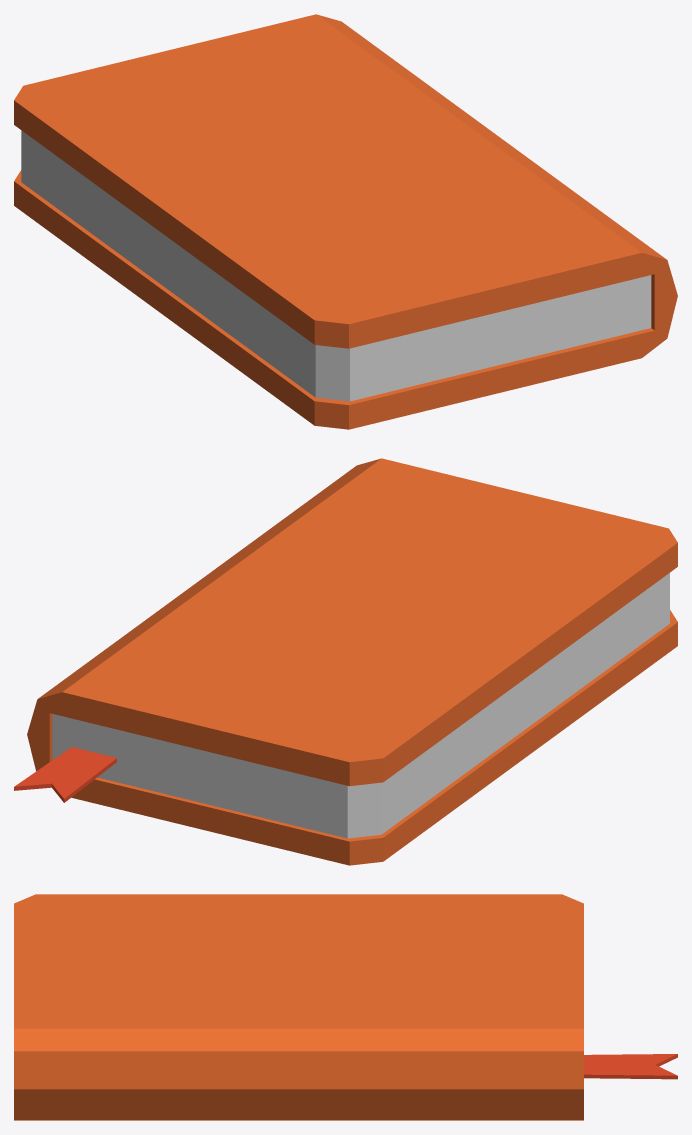
The model's file is book.03.fbx.
3 views of the same model, one above another, from view 1: azimuth 30°, elevation 25°; view 2: azimuth 150°, elevation 25°; view 3: azimuth 270°, elevation 25° (orthographic). The views are drawn at different scales.
Visible parts, largest first — view 1: book.03; view 2: book.03; view 3: book.03.
Boxes of the visible parts, x1,y1,x2,y2 form: book.03: [14, 14, 677, 429]; book.03: [14, 458, 677, 865]; book.03: [14, 894, 677, 1120].
Size of the model in its own units: 0.2611 by 0.075 by 0.4894.
